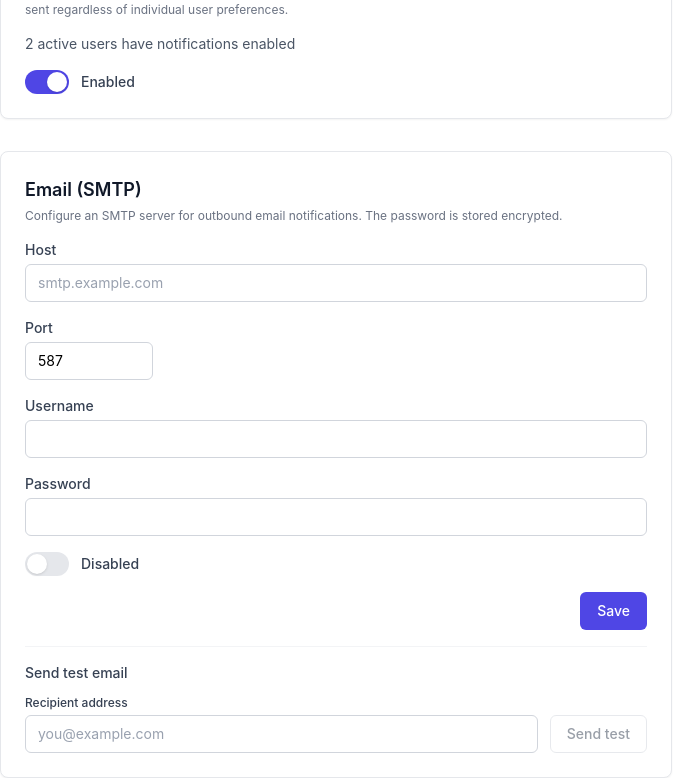
Test: NotificationSettings — SMTP section › shows SMTP test success when test passes
(page scrolled)
Type "test@example.com" into the field with test id "smtp-test-address-input" at (281, 734), box [25, 715, 538, 753]
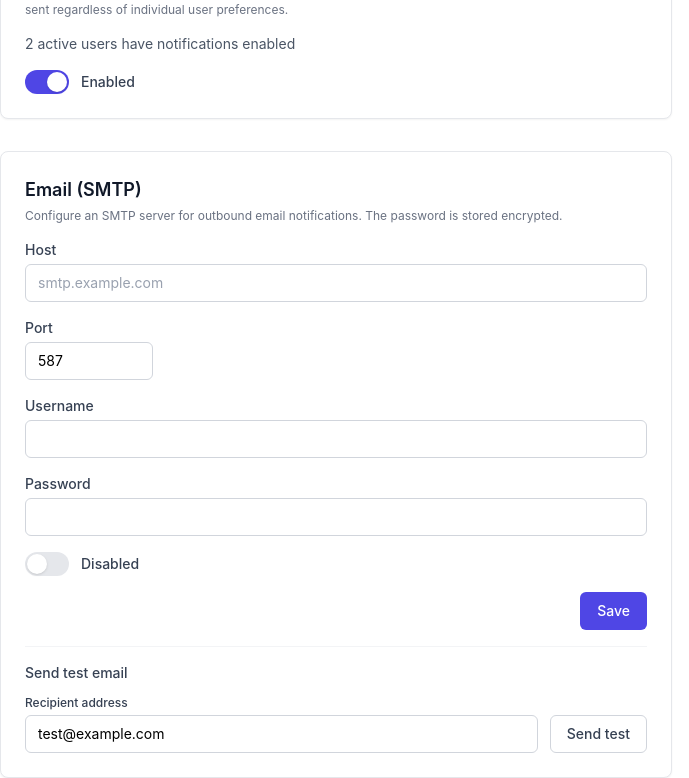
Click the button with test id "smtp-test-button" at (598, 734), box [550, 715, 647, 753]
(page scrolled)
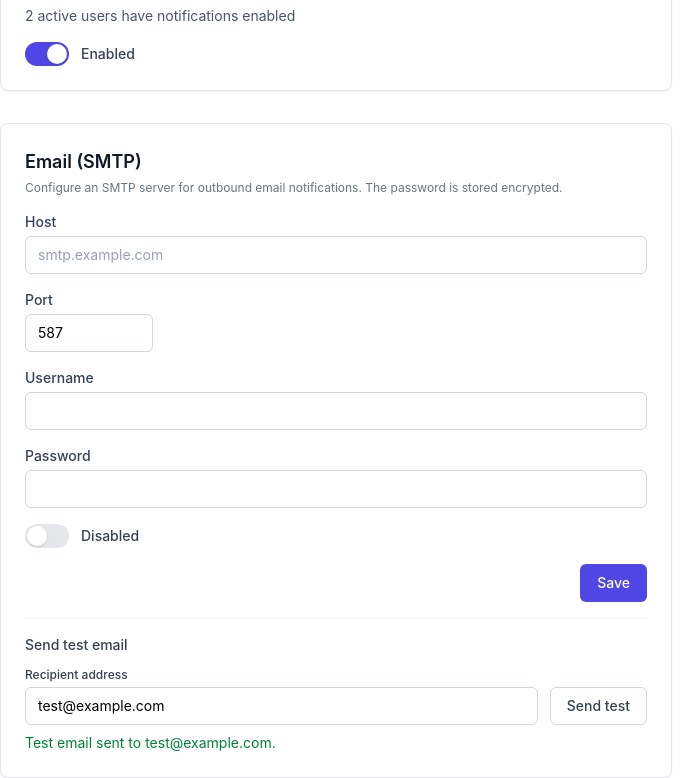
Now the message "Test email sent to test@example.com." is shown, box [25, 734, 276, 751]
